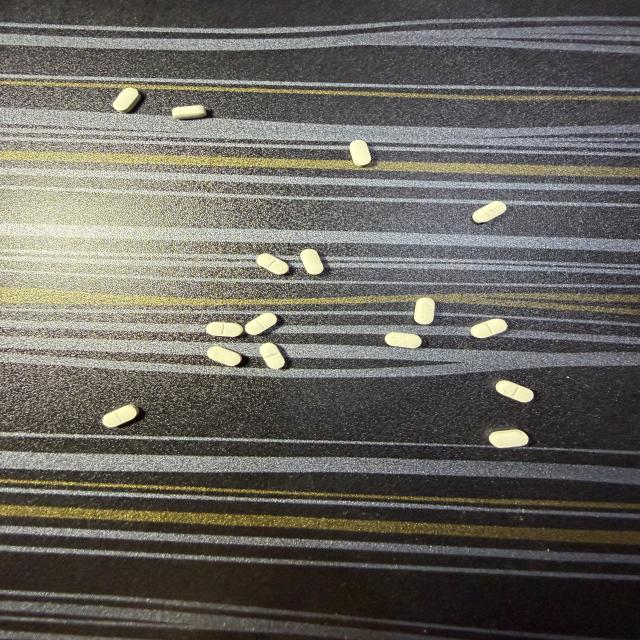pill: (496, 380, 533, 402), (103, 405, 139, 427), (473, 201, 506, 223), (245, 313, 277, 335), (470, 319, 507, 338), (113, 88, 141, 113), (207, 346, 242, 366), (489, 430, 528, 447), (260, 343, 285, 369), (257, 254, 289, 274), (349, 140, 372, 167), (206, 322, 243, 337), (301, 249, 323, 274), (385, 333, 421, 348), (414, 298, 434, 324), (172, 105, 207, 119)
